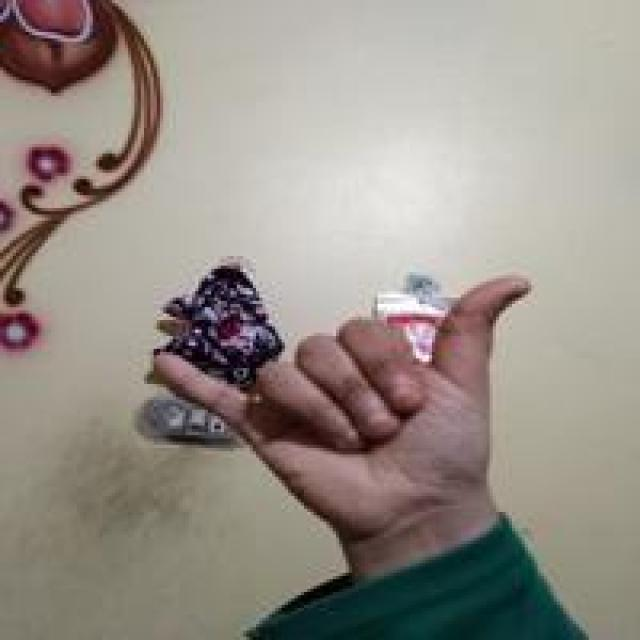Y: (146, 272, 536, 518)
